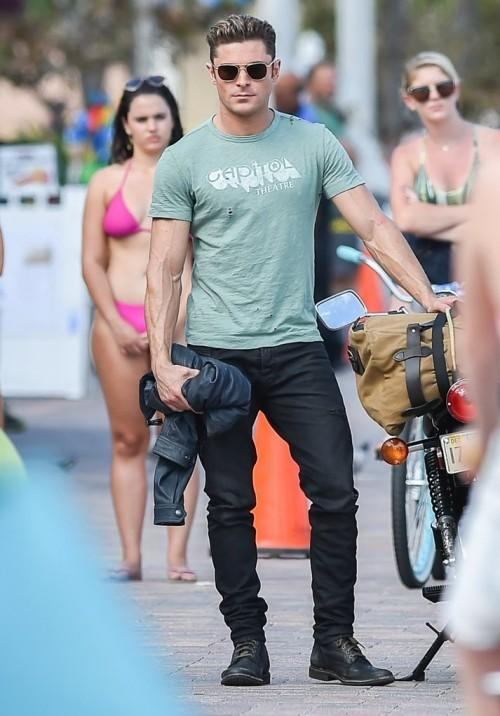Person: (143, 14, 462, 690), (81, 75, 199, 583), (387, 48, 500, 240)
